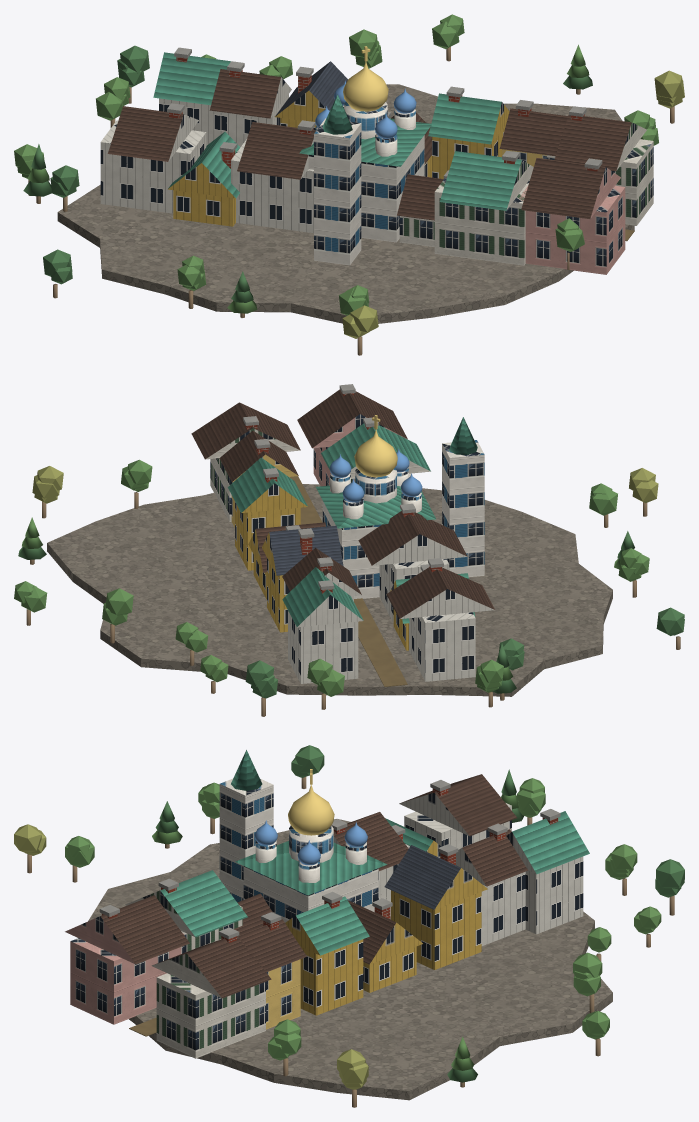
Rendered from city_east_town.glb.
3 renders of one model, top to bottom at view 1: azimuth 30°, elevation 25°; view 2: azimuth 150°, elevation 25°; view 3: azimuth 270°, elevation 25°, orthographic. The views are drawn at different scales.
Parts seen in each view (by area): view 1: city_east_town; view 2: city_east_town; view 3: city_east_town.
Part boxes in pixels (x1=…): city_east_town: x1=14, y1=14, x2=684, y2=355; city_east_town: x1=14, y1=384, x2=684, y2=716; city_east_town: x1=14, y1=745, x2=684, y2=1107.
Bounding box in the file's own units: 2.43 × 0.634 × 2.11.
19 materials, 13 textured.
